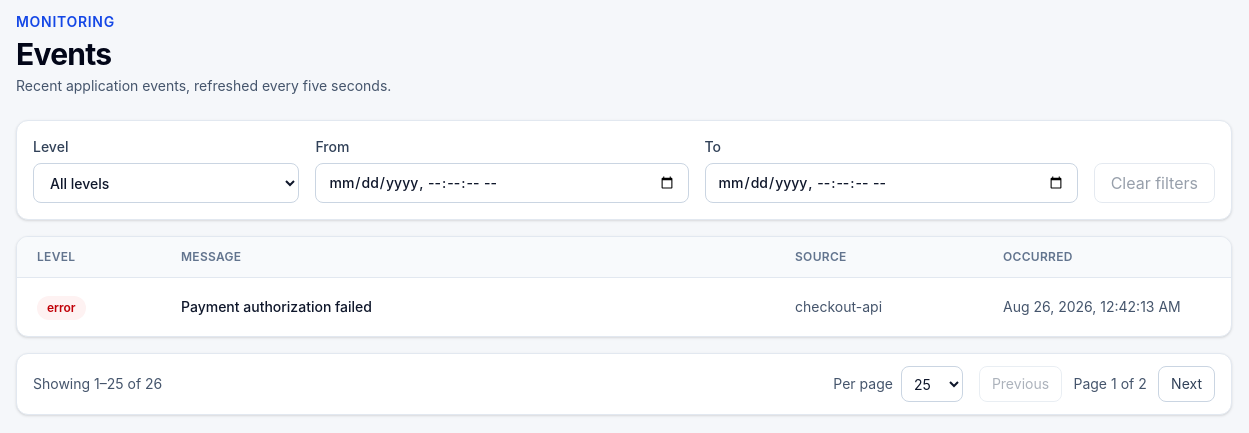
EventsPage › moves to the next server-side page
The width and height of the screenshot is (1249, 433).
Expected: the text "Payment authorization failed" is shown, [181,298,372,315]
Click the button "Next": (1187, 384) [1158,366,1215,402]
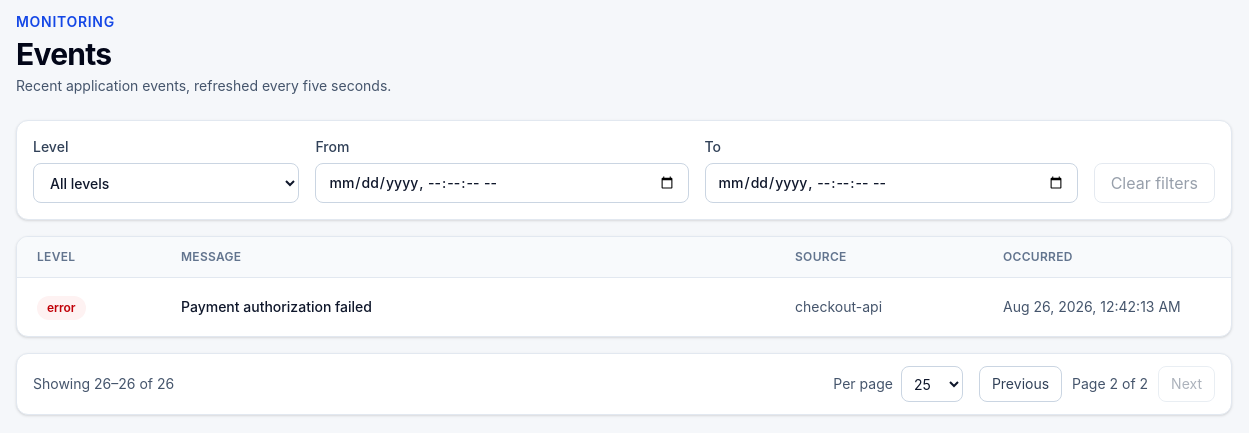
Result: the text "Page 2 of 2" is shown at [1070,374,1150,394]
